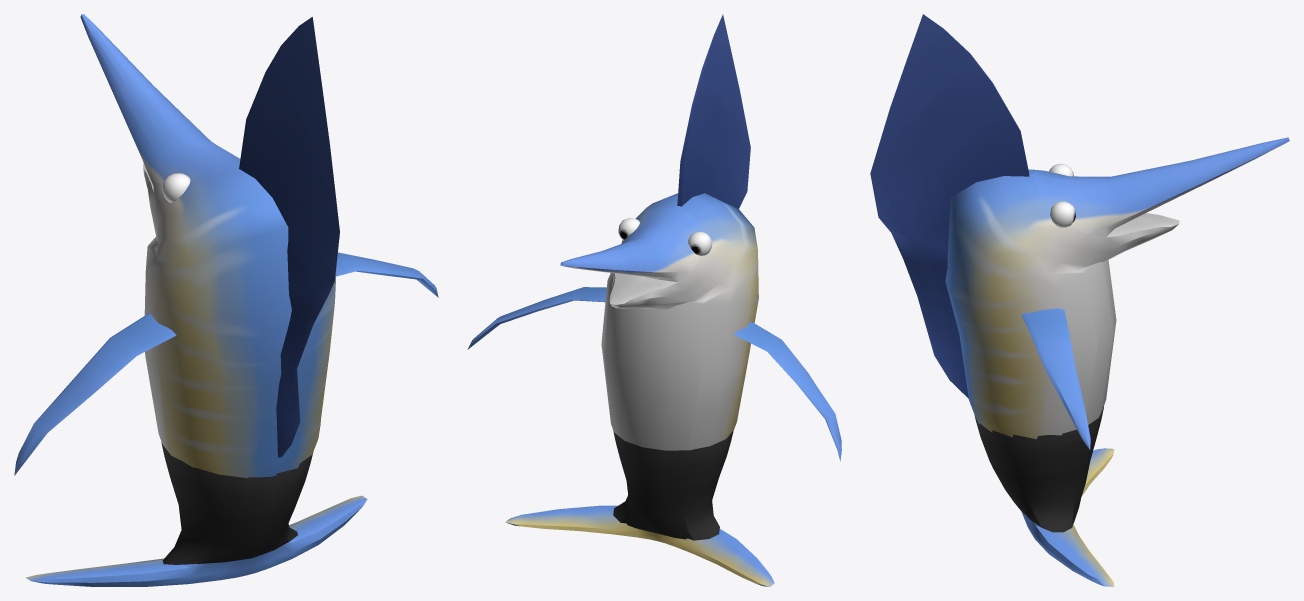
The model's file is kajiki_idle_a_05.fbx.
3 renders of one model, left to right at view 1: azimuth 30°, elevation 25°; view 2: azimuth 150°, elevation 25°; view 3: azimuth 270°, elevation 25°, orthographic. The views are drawn at different scales.
Parts seen in each view (by area): view 1: I_a_05; view 2: I_a_05; view 3: I_a_05.
Part boxes in pixels (left/top/right/bottom): I_a_05: left=14, top=14, right=438, bottom=586; I_a_05: left=467, top=14, right=841, bottom=586; I_a_05: left=870, top=14, right=1289, bottom=586.
Size of the model in its own units: 1.95 by 2.51 by 1.88.
1 material, 1 textured.
